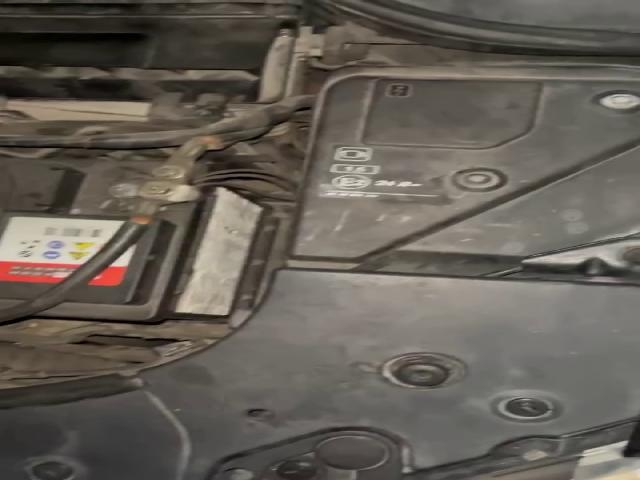accumulator: (0, 154, 270, 322)
fuse_box: (293, 76, 637, 265)
